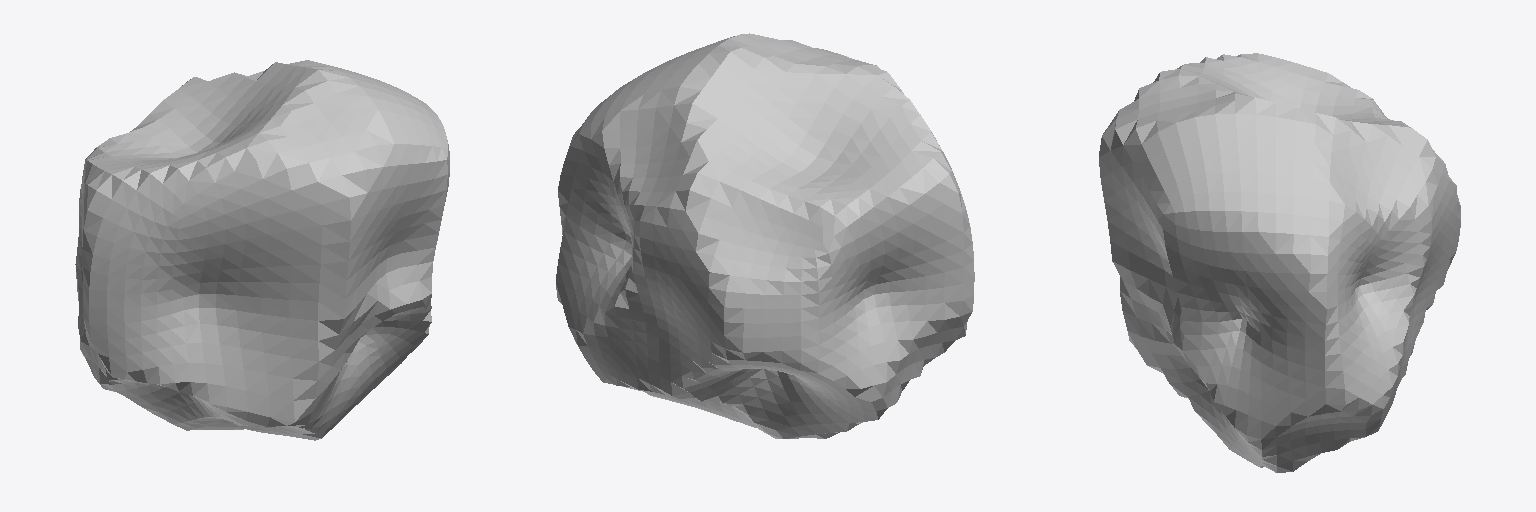
The model's file is Rock.obj.
3 renders of one model, left to right at view 1: azimuth 30°, elevation 25°; view 2: azimuth 150°, elevation 25°; view 3: azimuth 270°, elevation 25°, orthographic.
Parts seen in each view (by area): view 1: Cube; view 2: Cube; view 3: Cube.
Boxes of the visible parts, x1,y1,x2,y2 form: Cube: [75, 60, 449, 440]; Cube: [556, 33, 974, 438]; Cube: [1099, 53, 1460, 472].
Bounding box in the file's own units: 2.57 × 2.4 × 2.16.